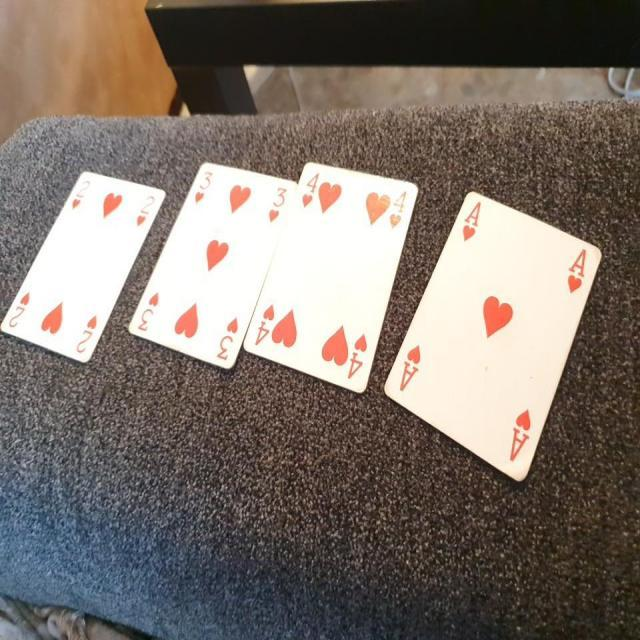2 of hearts: (1, 159, 164, 372)
3 of hearts: (128, 153, 300, 378)
4 of hearts: (242, 157, 417, 400)
ace of hearts: (390, 181, 608, 490)
